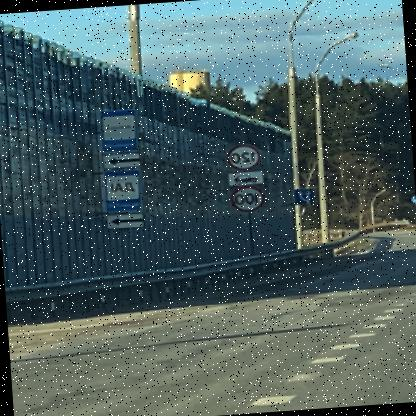speedlimit: (228, 142, 262, 170), (233, 184, 267, 211)
